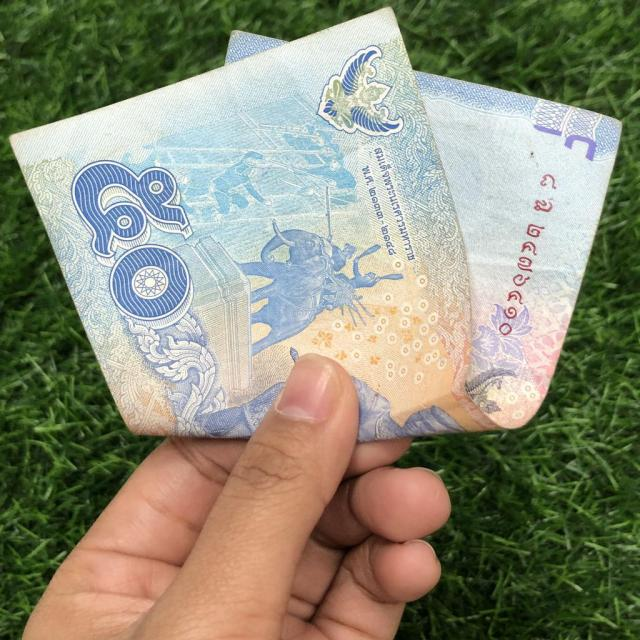THAI50: (11, 9, 620, 440)
